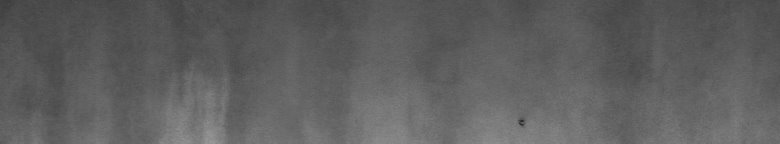fi: (514, 116, 532, 132)
